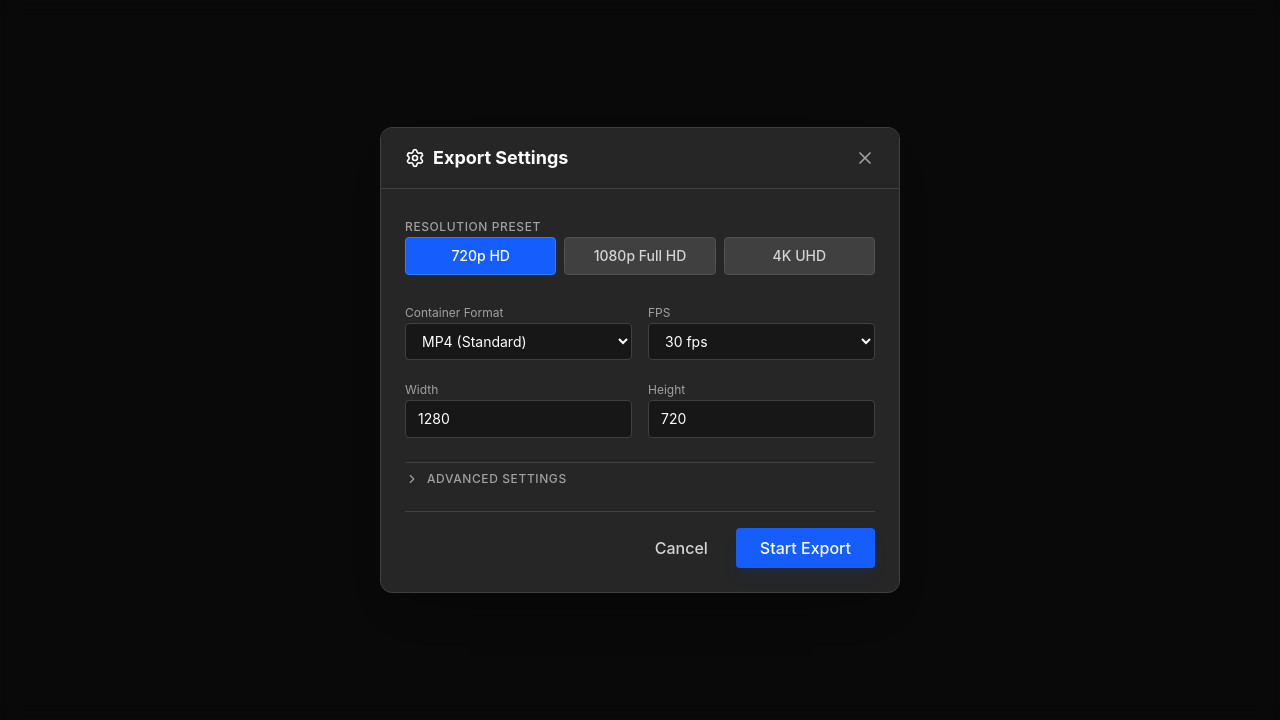
Test: Export Integration Flow › should perform full export flow with settings change
The image size is (1280, 720).
Expected: the heading "Export Settings" is shown, [405,144,568,172]
Note: Change preset to 1080p
Click the button "1080p Full HD".
click(640, 256)  # box [564,237,716,275]
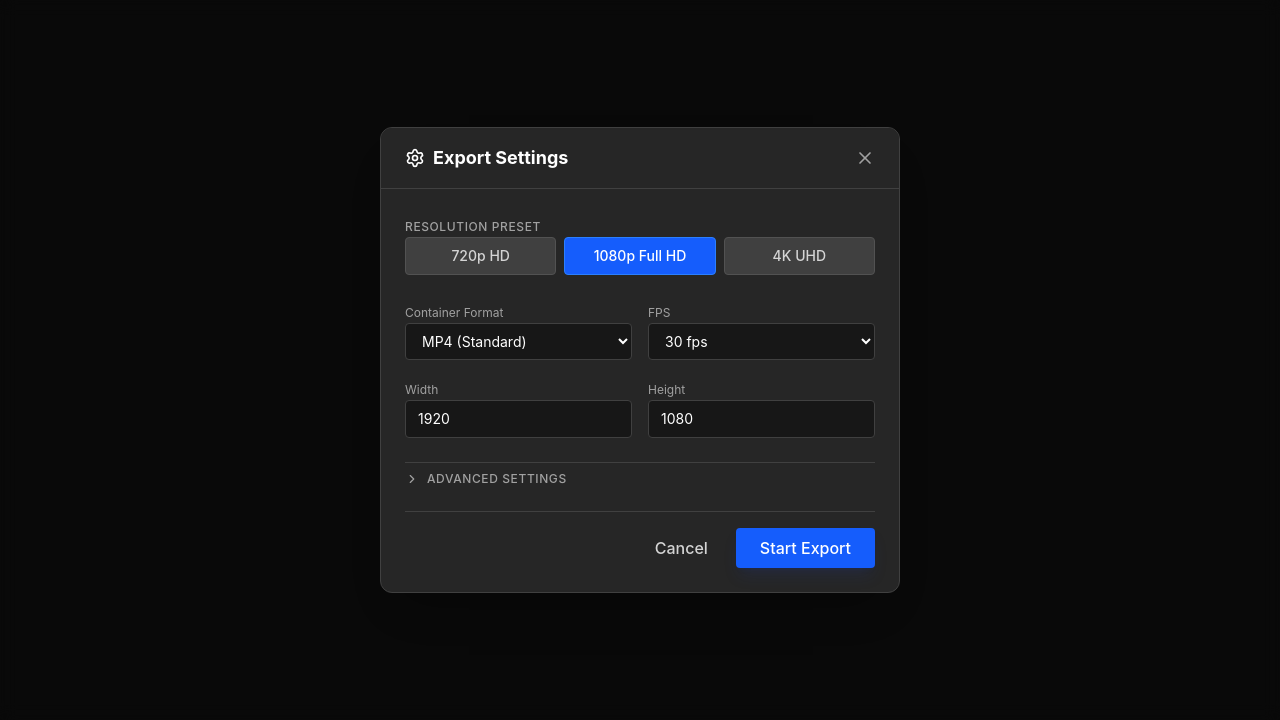
Click the button "Start Export".
click(805, 548)  # box [736,528,875,568]
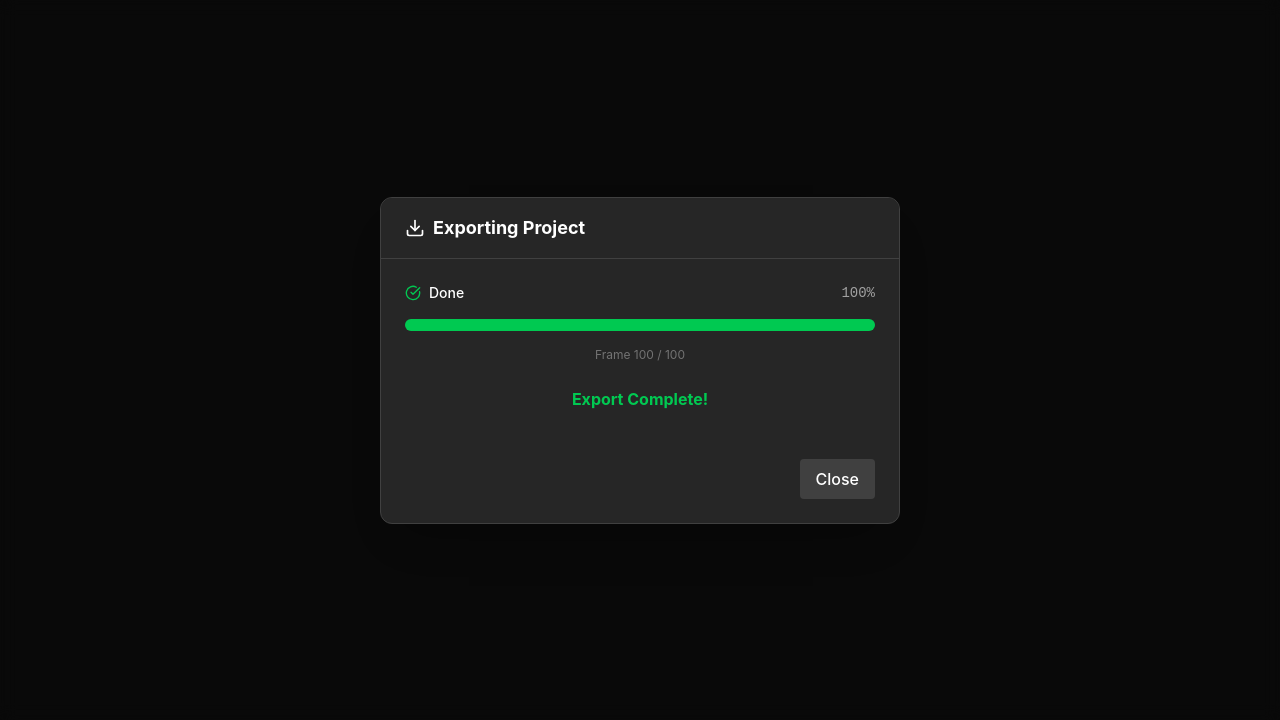
Expected: the heading "Exporting Project" is shown, [405,214,585,242]
Expected: the text "Export Complete!" is shown, [572,388,708,408]
